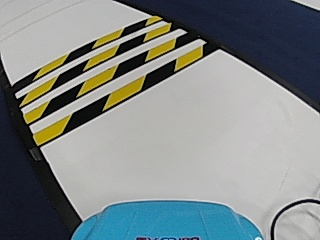bump: (27, 28, 157, 130)
